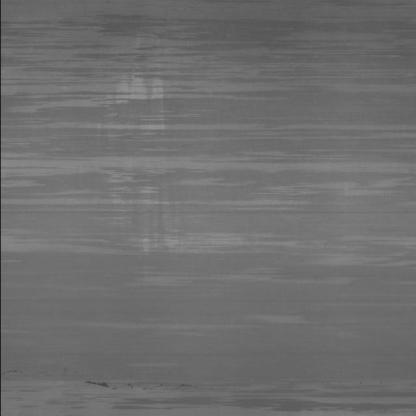inclusion: (73, 380, 193, 394)
water_spot: (1, 20, 402, 190), (16, 204, 350, 301), (8, 390, 416, 416)
